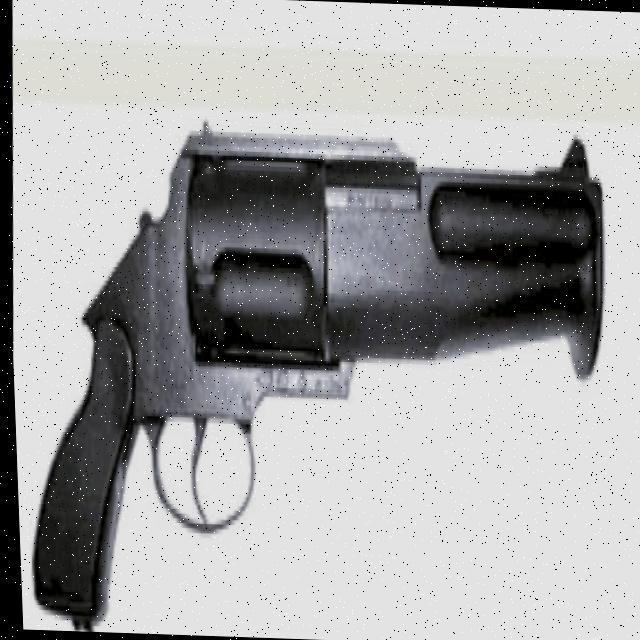pistol: (8, 106, 616, 640)
